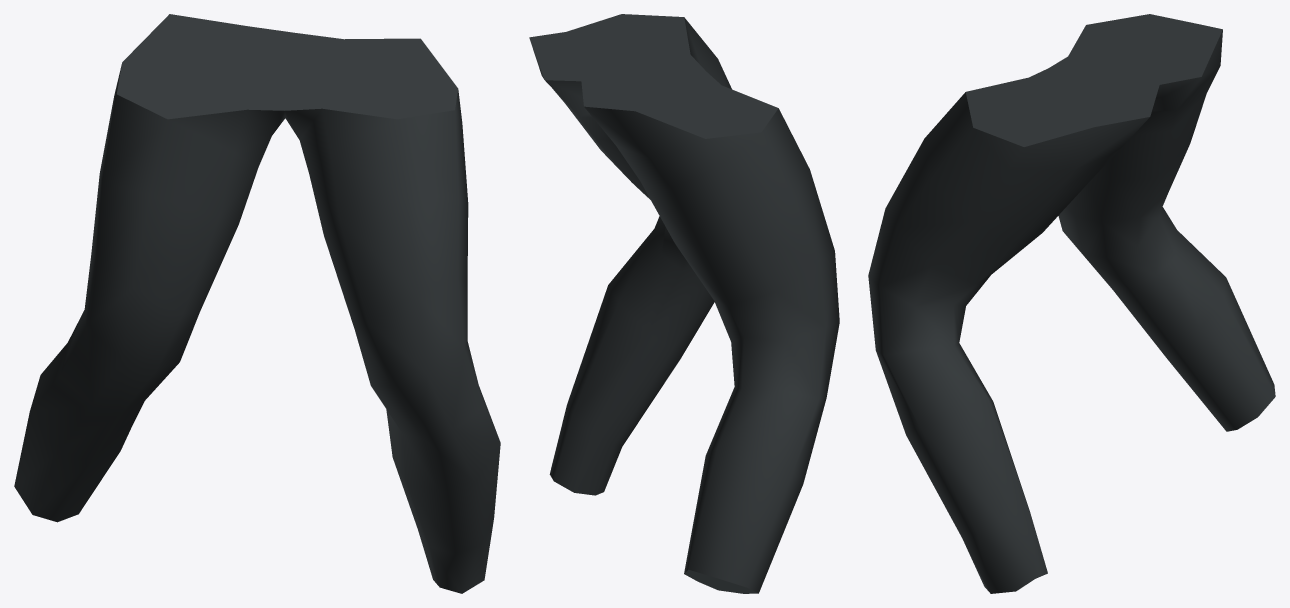
File: BH_Legs.fbx
3 renders of one model, left to right at view 1: azimuth 30°, elevation 25°; view 2: azimuth 150°, elevation 25°; view 3: azimuth 270°, elevation 25°, orthographic. The views are drawn at different scales.
Visible parts, largest first — view 1: BH_Legs; view 2: BH_Legs; view 3: BH_Legs.
Boxes of the visible parts, left/top/right/bottom form: BH_Legs: left=14, top=14, right=500, bottom=593; BH_Legs: left=529, top=14, right=839, bottom=593; BH_Legs: left=868, top=14, right=1275, bottom=593.
Size of the model in its own units: 44.2 by 63.12 by 48.15.
